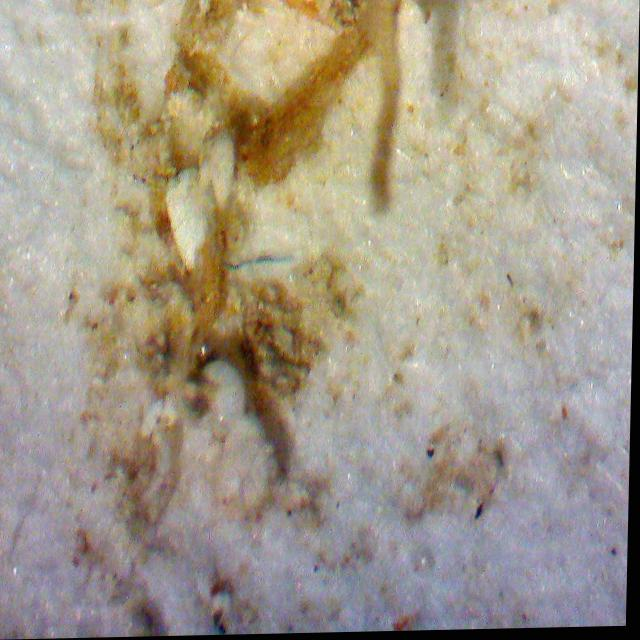microplastic: (223, 258, 295, 271)
